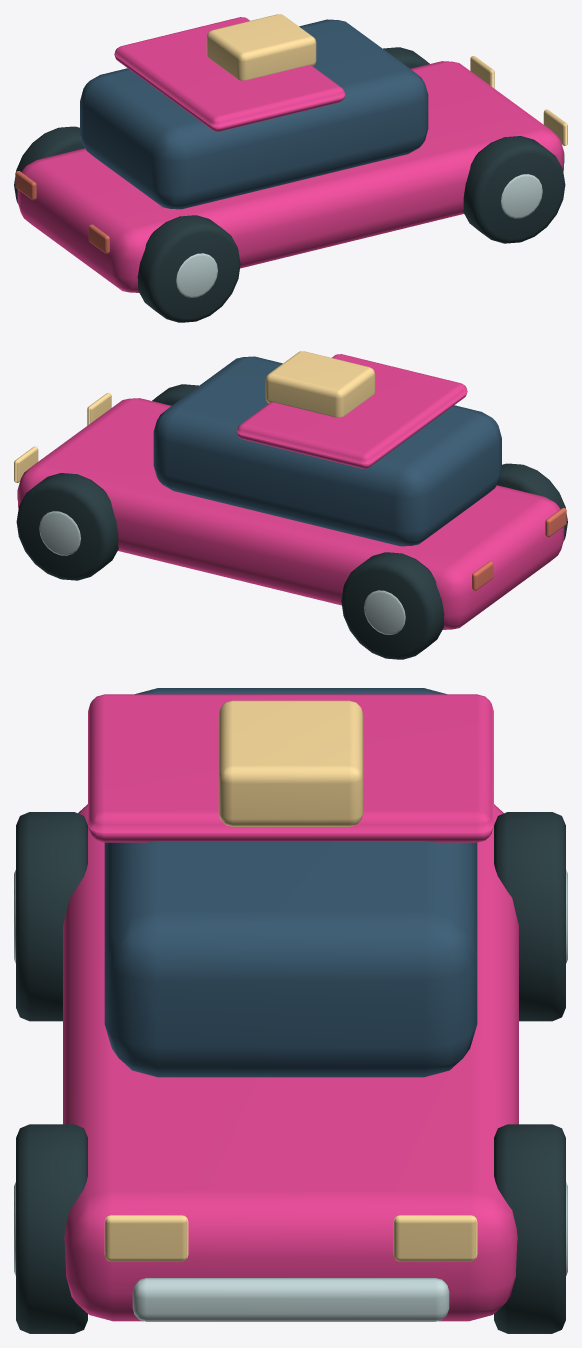
File: taxi.glb
The picture shows the model from 3 angles, top to bottom: view 1: azimuth 30°, elevation 25°; view 2: azimuth 150°, elevation 25°; view 3: azimuth 270°, elevation 25°; orthographic projection. The views are drawn at different scales.
Parts seen in each view (by area): view 1: Paint taxi, Opaque blue glass.004, Tyre rubber.004, Headlamp.004, Wheel hubs.004, Tail lamp.004; view 2: Paint taxi, Opaque blue glass.004, Tyre rubber.004, Headlamp.004, Wheel hubs.004, Tail lamp.004; view 3: Paint taxi, Opaque blue glass.004, Tyre rubber.004, Headlamp.004, Wheel hubs.004.
Boxes of the visible parts, x1,y1,x2,y2 form: Paint taxi: [17, 17, 563, 292]; Opaque blue glass.004: [80, 19, 428, 209]; Tyre rubber.004: [14, 47, 565, 322]; Headlamp.004: [206, 14, 567, 145]; Wheel hubs.004: [176, 152, 564, 297]; Tail lamp.004: [15, 171, 109, 253]; Paint taxi: [18, 354, 564, 629]; Opaque blue glass.004: [153, 356, 501, 546]; Tyre rubber.004: [16, 384, 567, 659]; Headlamp.004: [14, 351, 375, 482]; Wheel hubs.004: [17, 489, 405, 634]; Tail lamp.004: [472, 508, 566, 590]; Paint taxi: [63, 694, 518, 1321]; Opaque blue glass.004: [104, 688, 477, 1077]; Tyre rubber.004: [16, 812, 565, 1333]; Headlamp.004: [104, 700, 477, 1261]; Wheel hubs.004: [14, 870, 567, 1321].
Size of the model in its own units: 1.91 by 0.81 by 0.9968.
